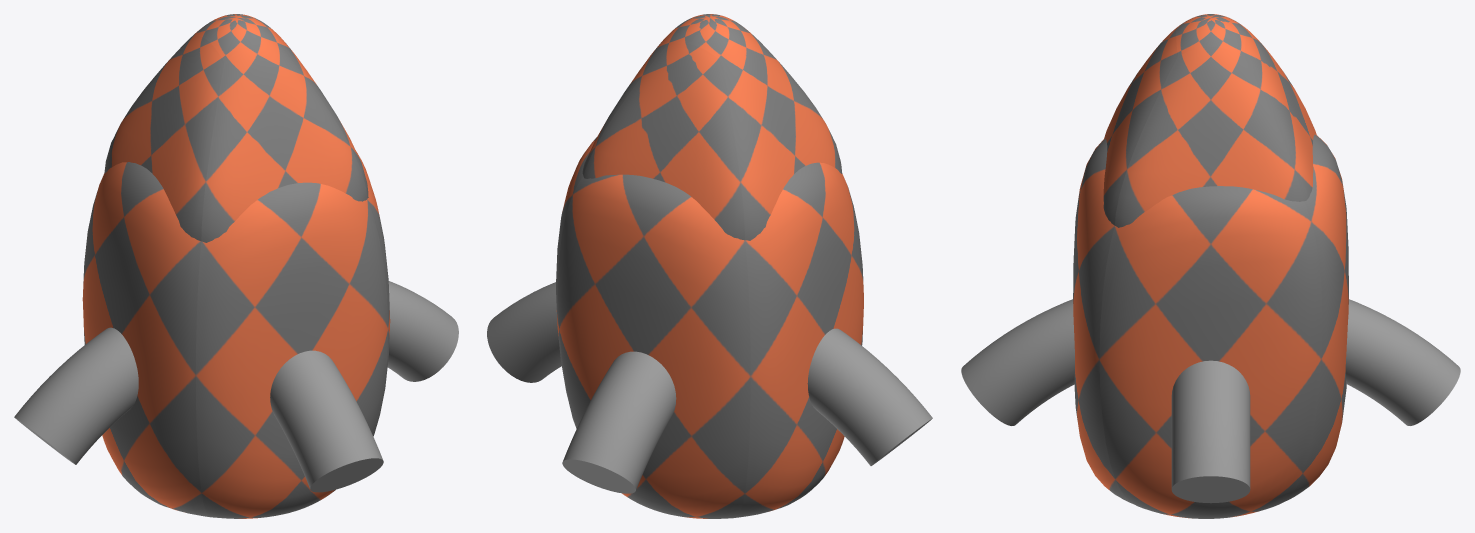
The model's file is Body(Oblong)+Colour(More_Orange)+Pattern(Diamond)+Arm_Angle(Bent_Down)+Hat(Pyramidal).fbx.
The picture shows the model from 3 angles, left to right: view 1: azimuth 30°, elevation 25°; view 2: azimuth 150°, elevation 25°; view 3: azimuth 270°, elevation 25°; orthographic projection.
Parts seen in each view (by area): view 1: Body(Oblong)+Colour(More_Orange)+Pattern(Diamond)+Arm_Angle( (×5); view 2: Body(Oblong)+Colour(More_Orange)+Pattern(Diamond)+Arm_Angle( (×5); view 3: Body(Oblong)+Colour(More_Orange)+Pattern(Diamond)+Arm_Angle( (×5).
Boxes of the visible parts, x1=… form: Body(Oblong)+Colour(More_Orange)+Pattern(Diamond)+Arm_Angle( (×5): x1=14, y1=14, x2=458, y2=518; Body(Oblong)+Colour(More_Orange)+Pattern(Diamond)+Arm_Angle( (×5): x1=487, y1=14, x2=932, y2=518; Body(Oblong)+Colour(More_Orange)+Pattern(Diamond)+Arm_Angle( (×5): x1=961, y1=14, x2=1460, y2=518.
Size of the model in its own units: 50.67 by 53 by 50.67.
Materials: 2 (1 with a texture image).
